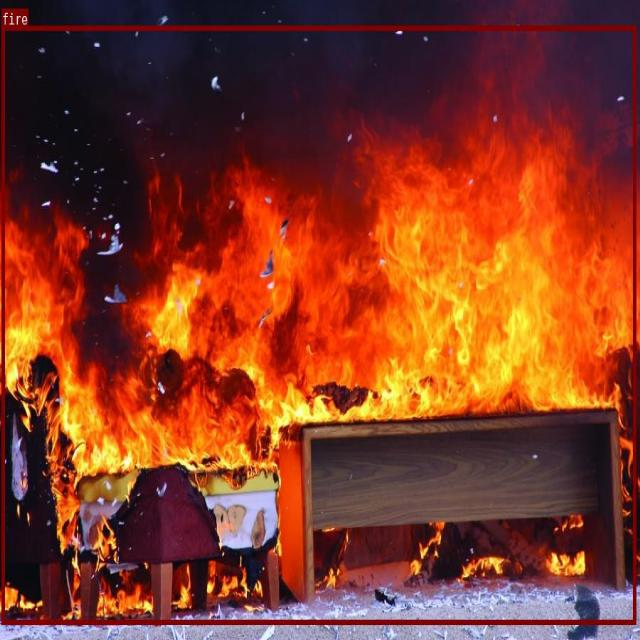fire: (1, 25, 635, 624)
